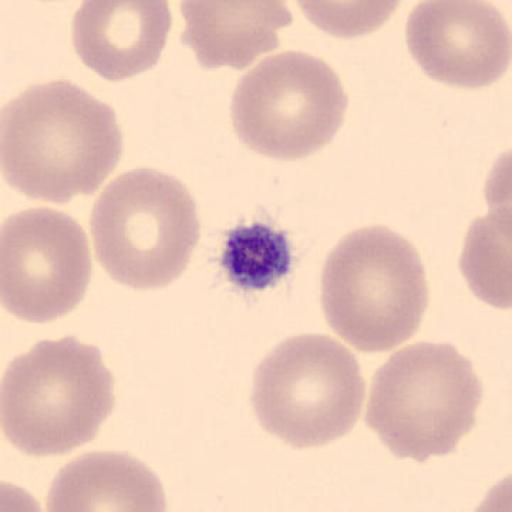Platelet: (216, 218, 297, 294)
RBC: (1, 77, 124, 205), (318, 222, 430, 356), (364, 340, 484, 464), (88, 164, 202, 294), (1, 334, 117, 459), (248, 330, 366, 451), (227, 49, 350, 163), (2, 204, 93, 325), (403, 0, 511, 92), (458, 147, 512, 311), (70, 0, 174, 83), (44, 448, 169, 512), (177, 1, 291, 71), (458, 209, 512, 310), (482, 146, 512, 304), (291, 0, 406, 41), (483, 146, 511, 253), (465, 472, 511, 512), (2, 478, 44, 512)
